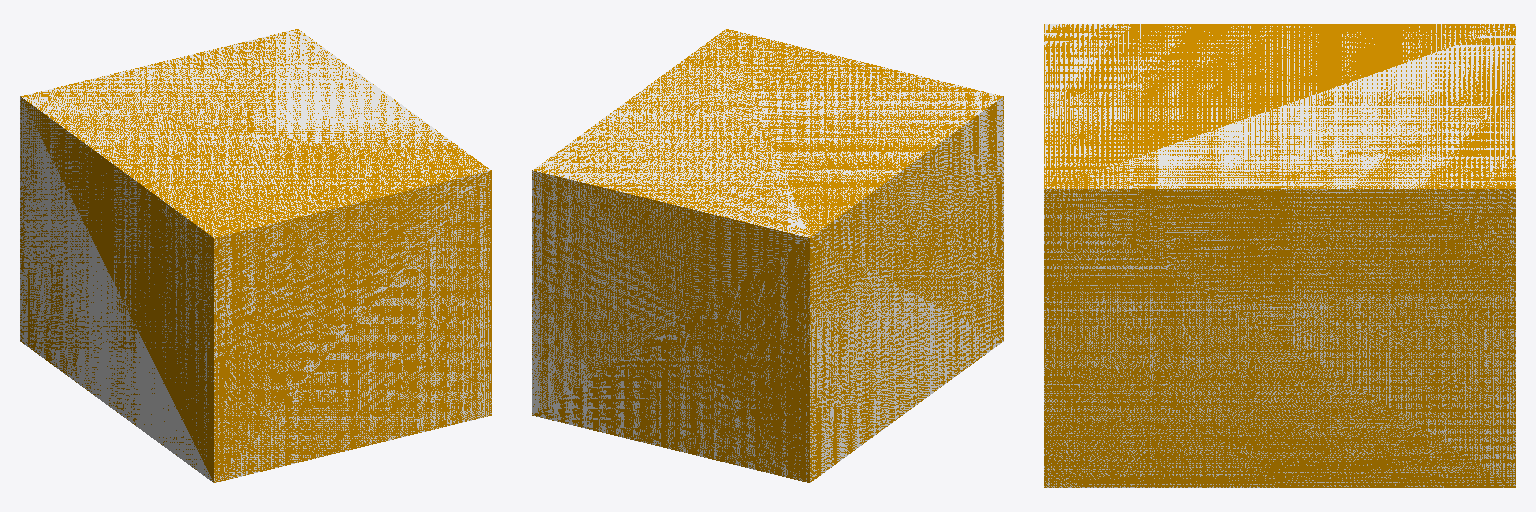
The robot description file, URDF, robot "corrogated_box":
<?xml version="1.0" ?> 
<robot name="corrogated_box" static="false">
  <link name="base_link">
  <inertial>
    <mass value="0.1" />
    <origin xyz="0 0 0.0" />
    <inertia ixx="0.20" ixy="0.0" ixz="0.0" iyy="0.20" iyz="0.0" izz="0.20"/>
  </inertial>
  <visual>
   <origin xyz="0 0 0.0" rpy="0 0 0" />
   <geometry>
     <mesh filename="package://hbrs_gazebo_objects/Media/models/corrogated_box.dae" scale="2.5 2 3.0"/>
   </geometry>
  </visual>
  <collision>
   <origin xyz="0 0 0" rpy="0 0 0" />
   <geometry>
     <box size="0.5 0.60 0.42" />
   </geometry>
  </collision>     
  </link>

<gazebo>
	<static>false</static>
</gazebo>
</robot>

--- What the picture shows (computed from the rendered views, not written in the file) ---
The picture shows the robot from 3 angles, left to right: view 1: azimuth 30°, elevation 25°; view 2: azimuth 150°, elevation 25°; view 3: azimuth 270°, elevation 25°; orthographic projection.
Model corrogated_box with 1 links and 0 joints (none), rooted at base_link, posed all joints at 0.
Links seen in each view (by area): view 1: base_link; view 2: base_link; view 3: base_link.
Boxes of the visible links, x1,y1,x2,y2 form: base_link: (20,29,491,482); base_link: (532,29,1003,482); base_link: (1044,24,1515,487).
Bounding box of the posed robot: 0.4956 × 0.5991 × 0.4187 m (x, y, z).
1 mesh visuals loaded from 1 distinct referenced files (1 Collada DAE).